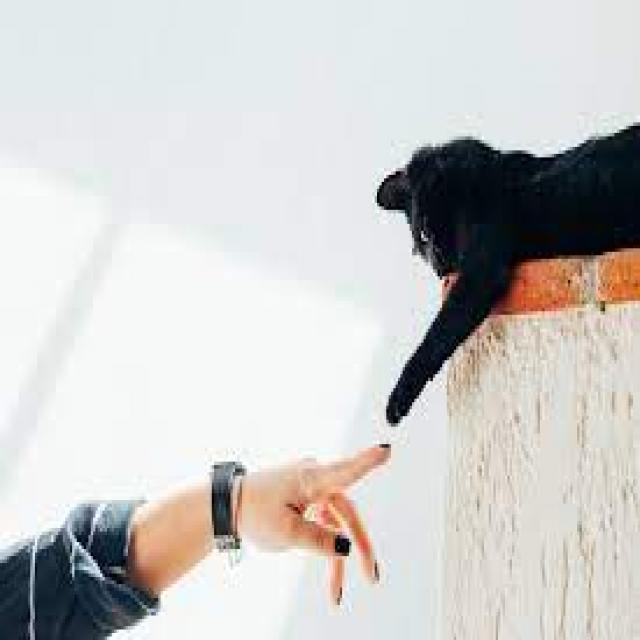Cat: (370, 120, 640, 432)
